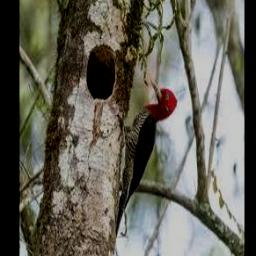Woodpecker: (115, 76, 177, 236)
